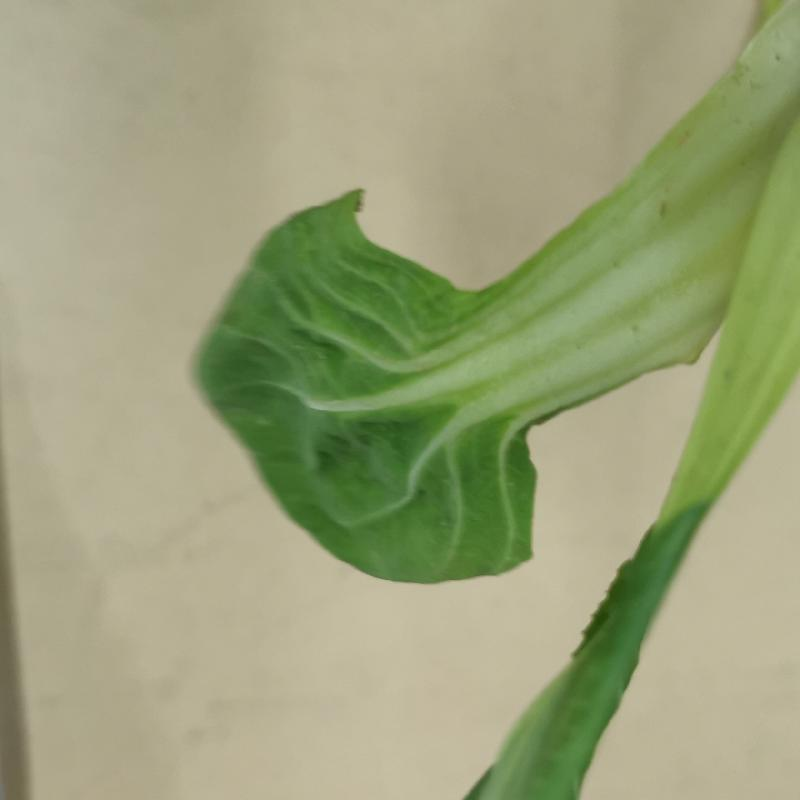green vegatable: (190, 12, 800, 798)
